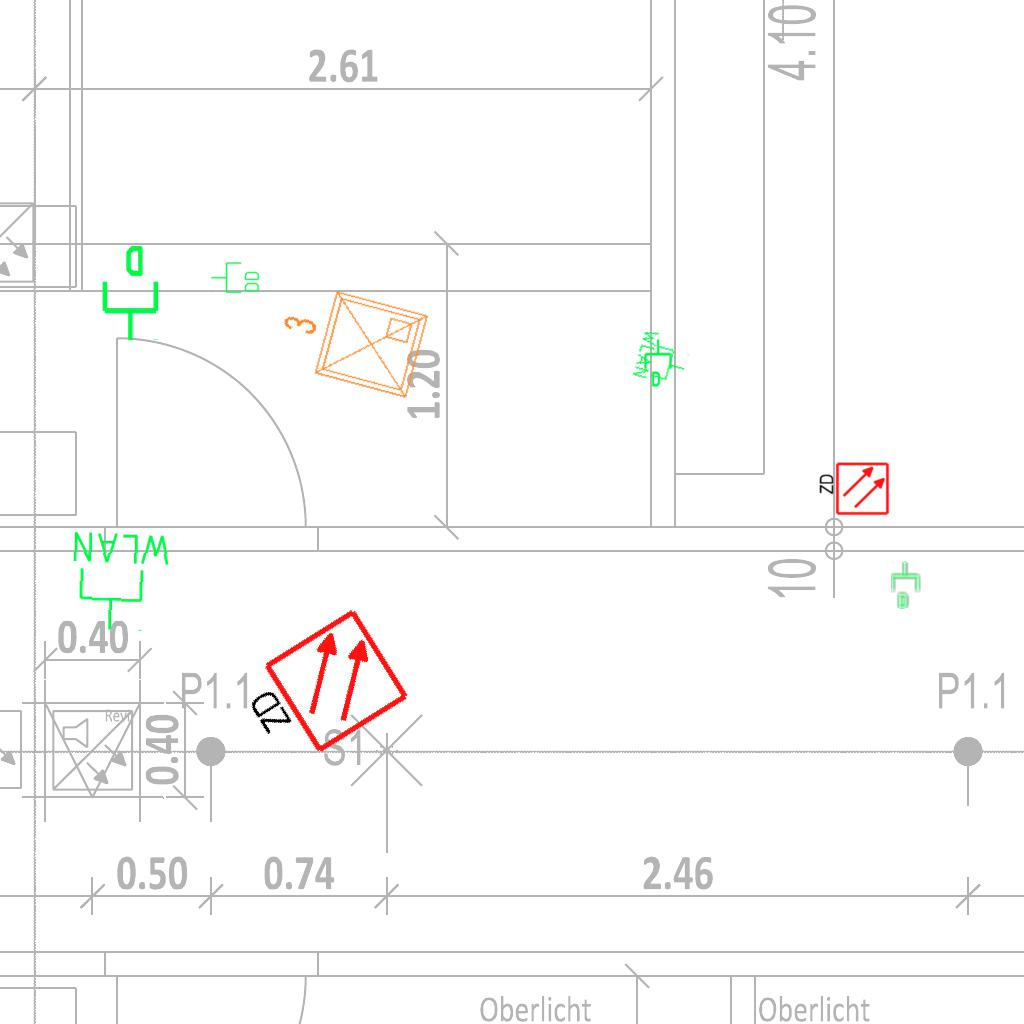Datenanschluss_einfach: (94, 243, 163, 343), (889, 560, 923, 610), (642, 338, 676, 388)
Datenanschluss_zweifach: (210, 261, 261, 295)
Einbaudownlights_LED_Konferenzraeume: (265, 271, 437, 411)
WLAN: (66, 527, 176, 636), (630, 326, 694, 390)
ZD_Melder_in_Zwischendecke_mit_Revisionsoeffnung_mind_40_x_40_cm: (227, 604, 415, 781), (816, 461, 890, 518)
